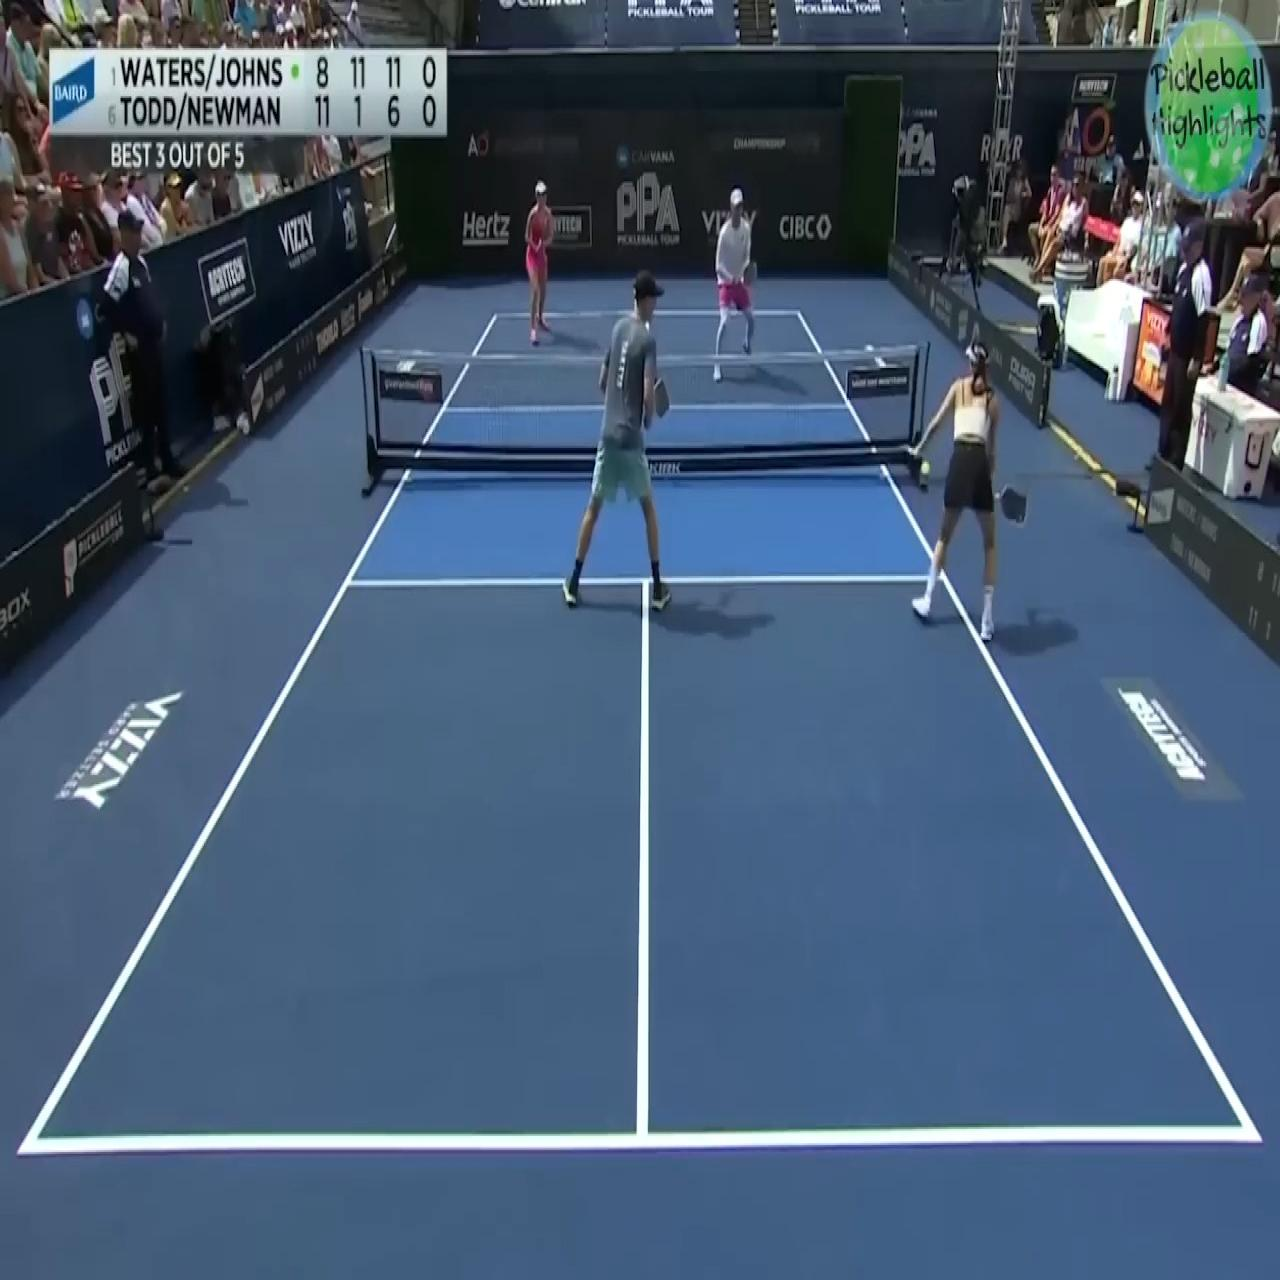Pickleball: (915, 450, 930, 478)
